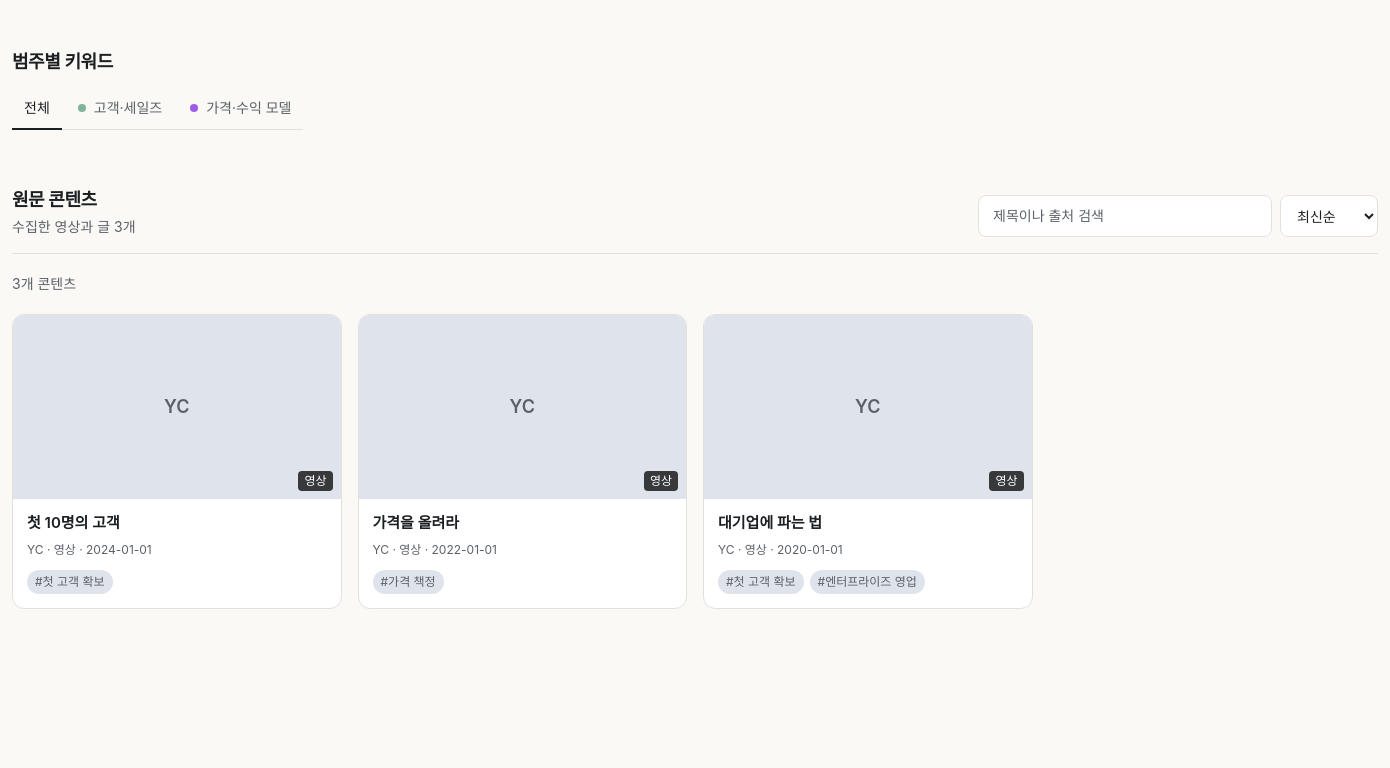
sorts by date and searches titles
The image size is (1390, 768).
Select "오래된순" in the dropdown named "정렬". click: (1329, 216)
box: [1280,195,1378,237]
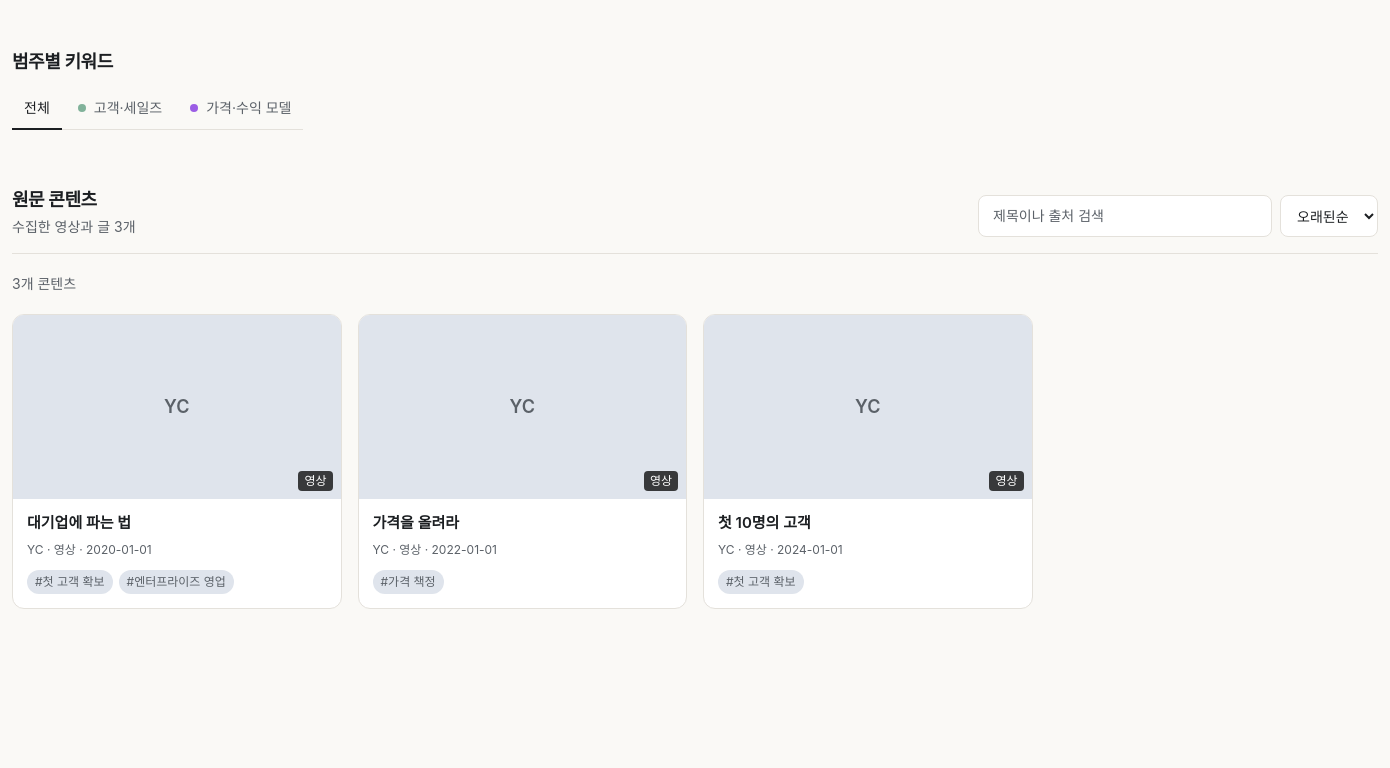
Type "없는 제목" into the search field named "콘텐츠 검색". click: (1125, 216)
box: [978,195,1272,237]
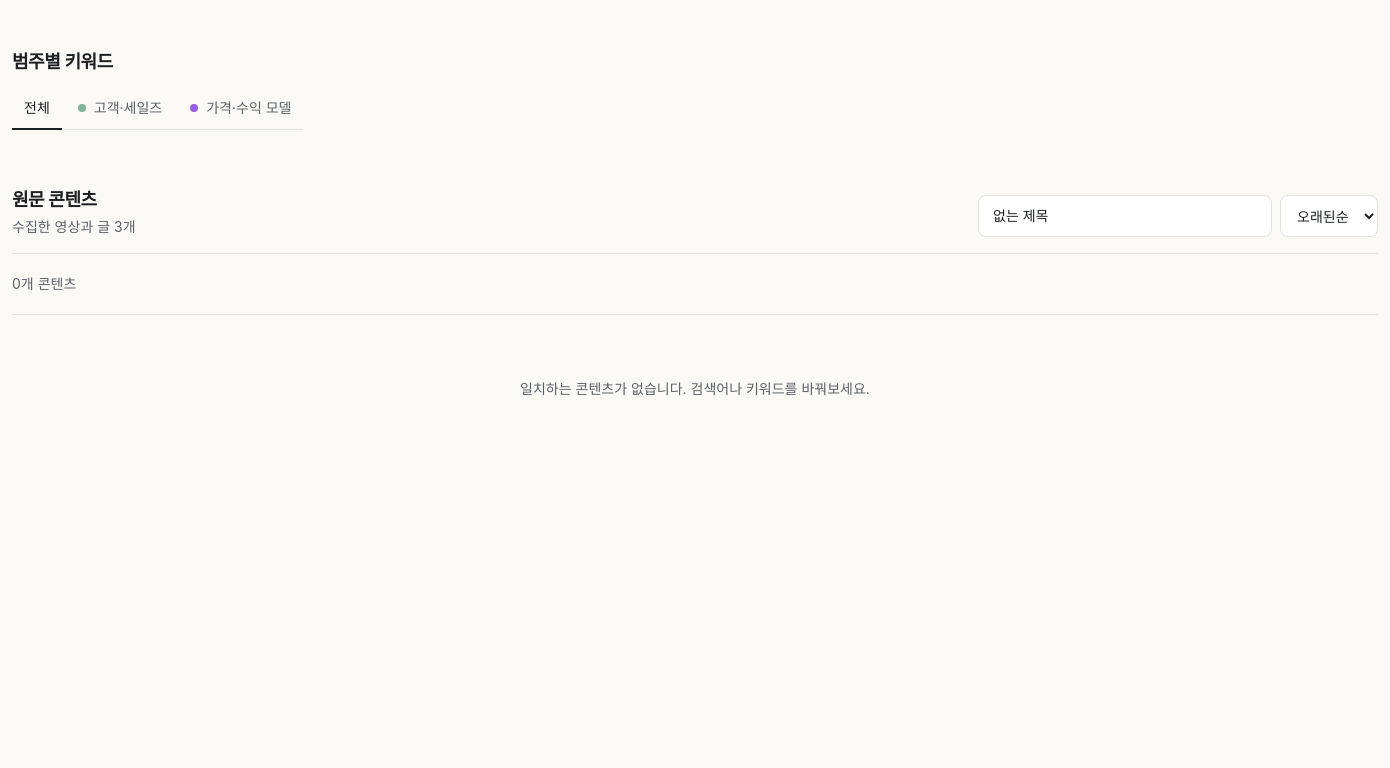
expect the text "일치하는 콘텐츠가 없습니다. 검색어나 키워드를 바꿔보세요." is shown: met, box [12,314,1378,463]
